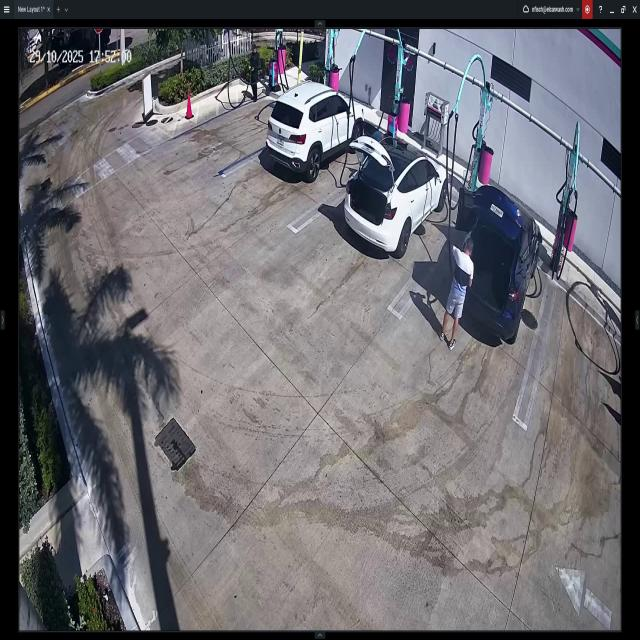Car: (454, 186, 540, 339), (345, 136, 448, 259), (259, 77, 362, 178)
